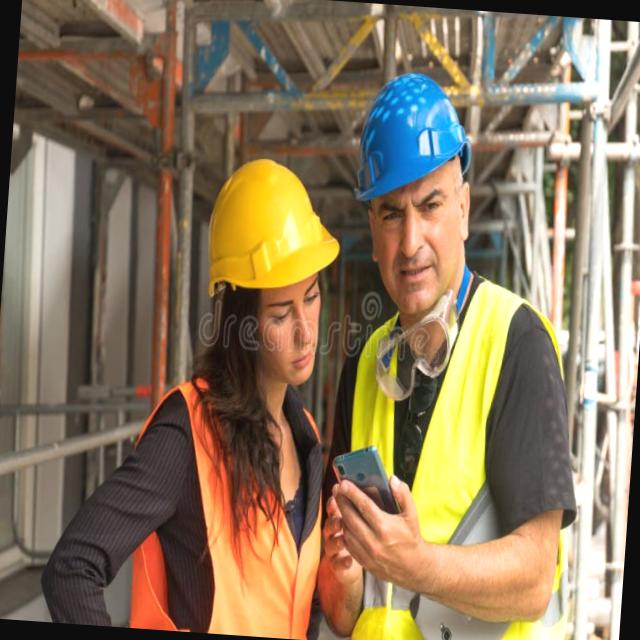helmet: (184, 146, 352, 294), (354, 76, 486, 208)
no-goggles: (360, 178, 468, 232), (244, 276, 337, 330)
vest: (330, 294, 568, 638), (110, 357, 336, 640)
